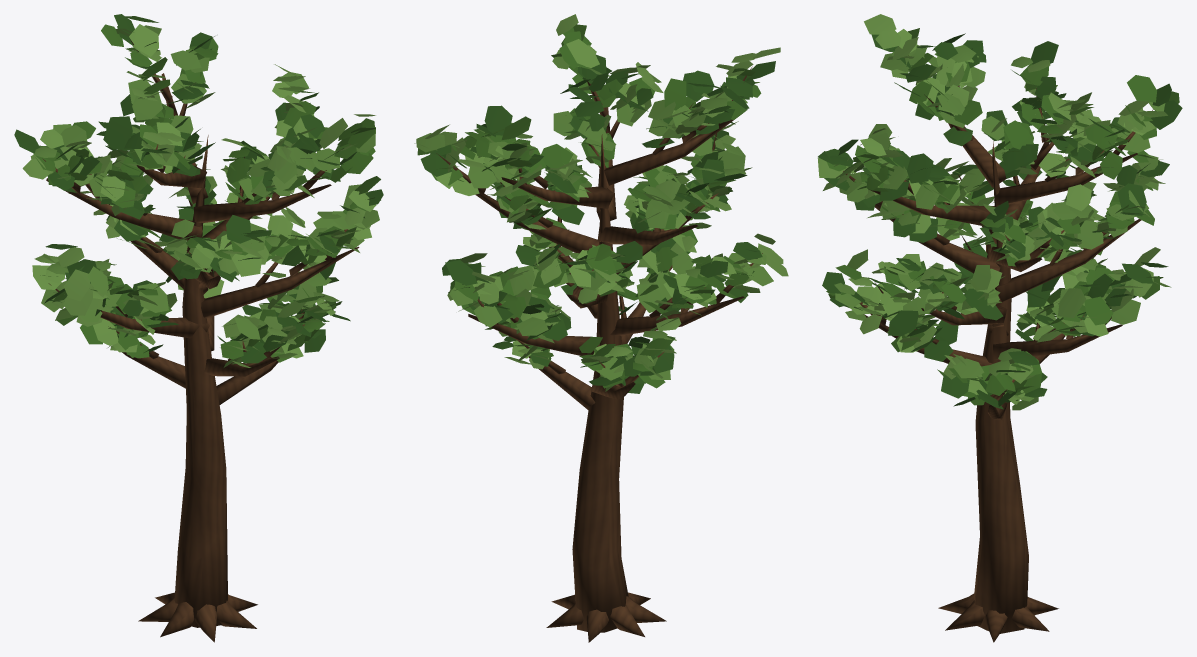
3 renders of one model, left to right at view 1: azimuth 30°, elevation 25°; view 2: azimuth 150°, elevation 25°; view 3: azimuth 270°, elevation 25°, orthographic.
Visible parts, largest first — view 1: static_tree_deciduous_13; view 2: static_tree_deciduous_13; view 3: static_tree_deciduous_13.
Boxes of the visible parts, x1,y1,x2,y2 form: static_tree_deciduous_13: (14, 14, 383, 642); static_tree_deciduous_13: (414, 14, 788, 642); static_tree_deciduous_13: (817, 14, 1182, 642).
Size of the model in its own units: 3 by 5 by 3.
5 materials, 1 textured.
